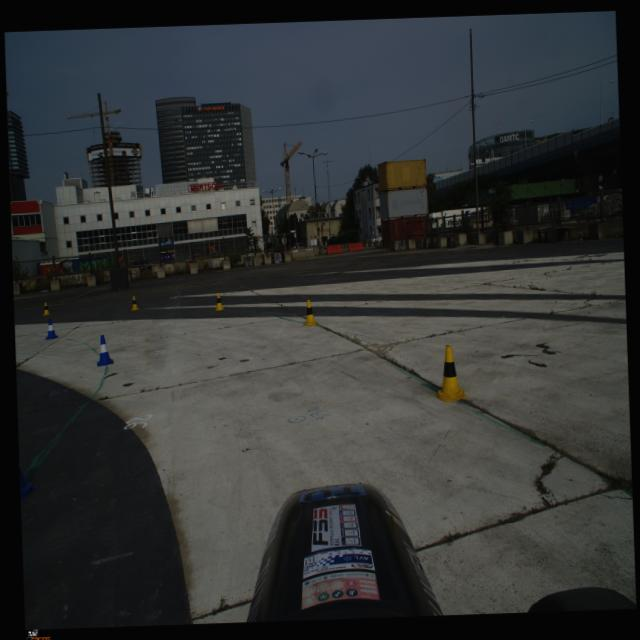blue_cone: (20, 462, 40, 500), (95, 334, 114, 366), (43, 318, 59, 339)
yellow_cone: (432, 344, 468, 402), (301, 299, 318, 326), (214, 292, 225, 310), (130, 295, 140, 310), (42, 302, 51, 314)
